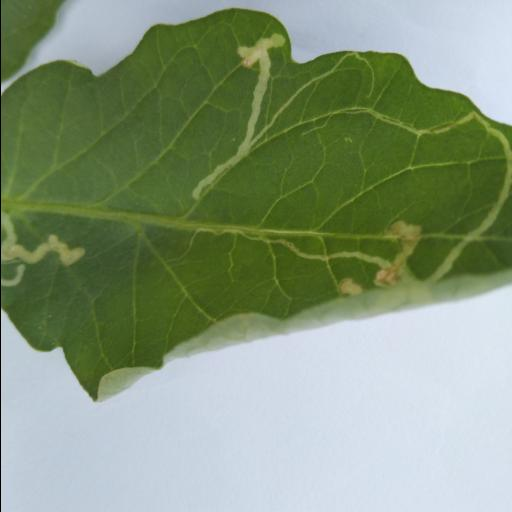Leaf Miner: (0, 8, 512, 400)
